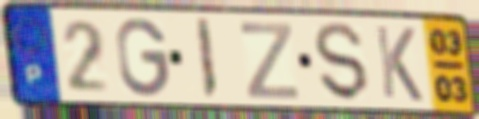2: (61, 18, 111, 95)
G: (114, 15, 172, 99)
I: (193, 16, 221, 102)
K: (372, 23, 426, 104)
S: (312, 21, 372, 104)
Z: (237, 20, 301, 102)
